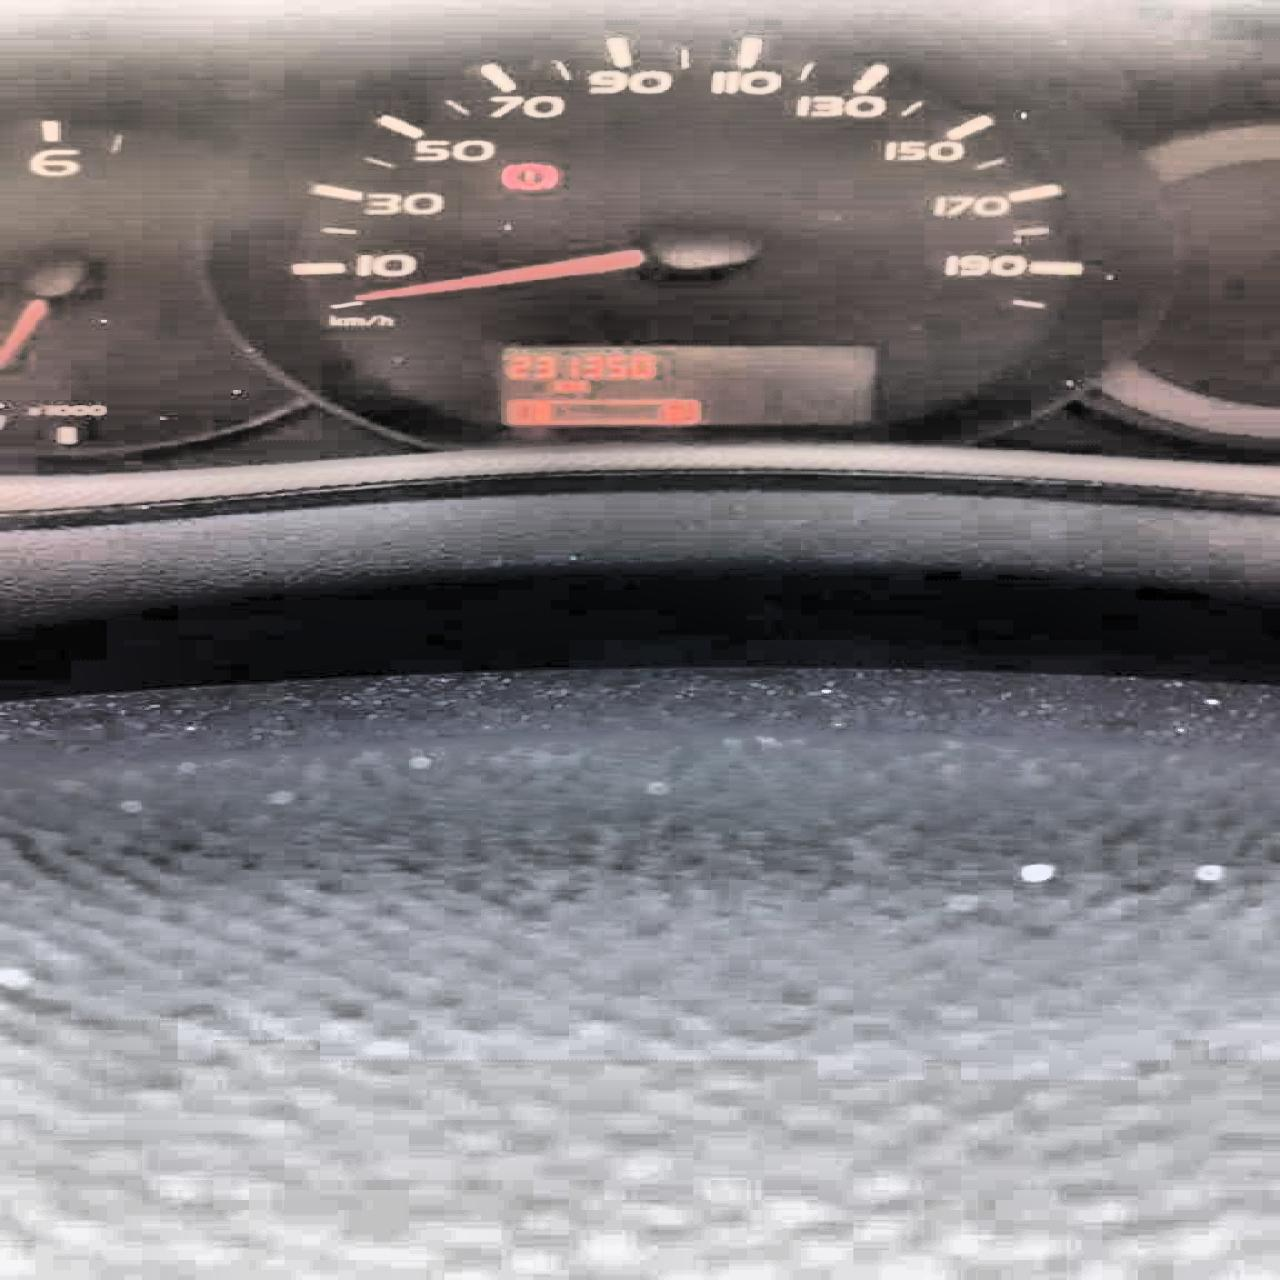0: (629, 354, 651, 379)
1: (567, 355, 580, 377)
2: (508, 353, 529, 377)
3: (533, 354, 553, 379), (583, 354, 600, 379)
5: (605, 354, 626, 377)
X: (566, 379, 585, 392), (551, 380, 567, 392)
odometer: (486, 340, 886, 433)
